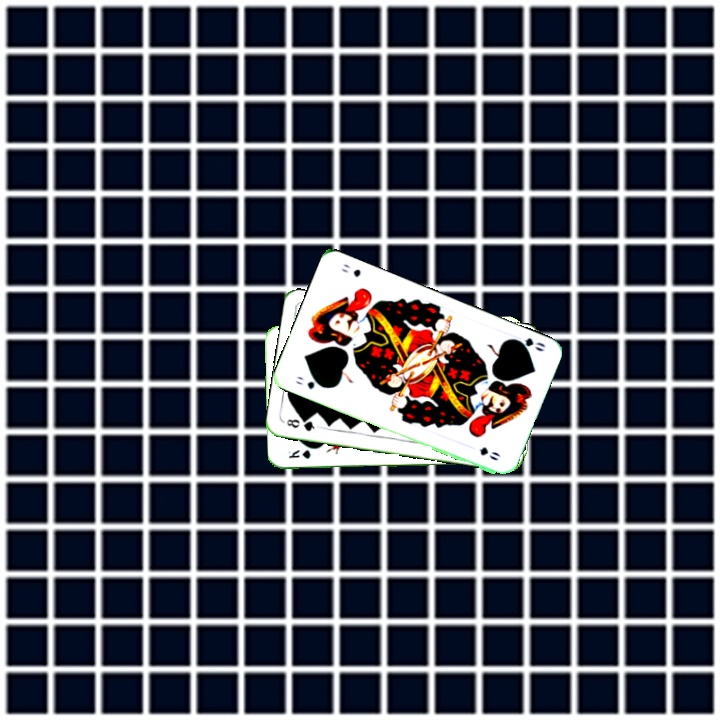G8: (282, 415, 317, 434)
GK: (284, 446, 315, 461)
GO: (507, 333, 548, 354), (292, 372, 328, 392)
